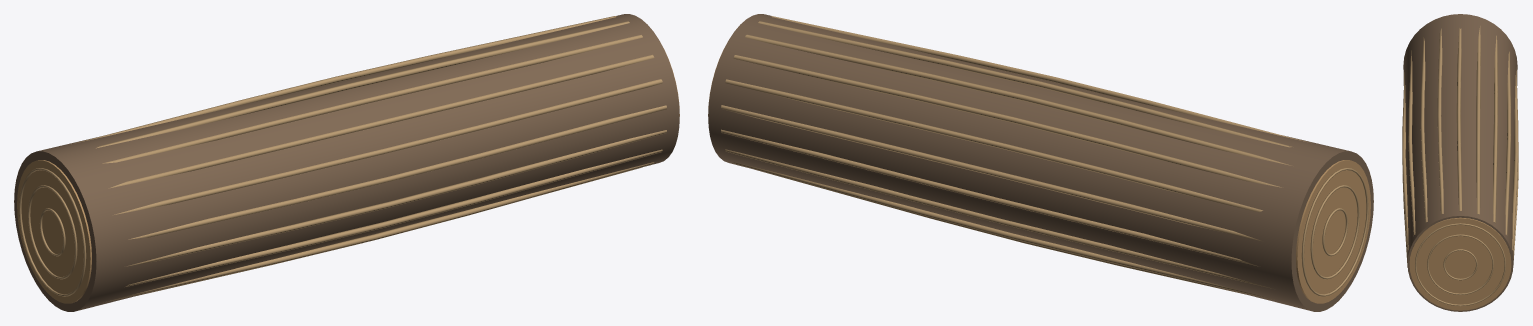
The model's file is mushroom-farm-and-grow-rooms-fruiting-log-52406733__30830.glb.
3 renders of one model, left to right at view 1: azimuth 30°, elevation 25°; view 2: azimuth 150°, elevation 25°; view 3: azimuth 270°, elevation 25°, orthographic. The views are drawn at different scales.
Parts seen in each view (by area): view 1: fruiting-log; view 2: fruiting-log; view 3: fruiting-log.
Part boxes in pixels (box(x1,y1,x2,y2)): fruiting-log: box(14, 14, 679, 311); fruiting-log: box(708, 14, 1373, 311); fruiting-log: box(1402, 14, 1518, 311).
Size of the model in its own units: 1.16 by 0.2885 by 0.2858.
